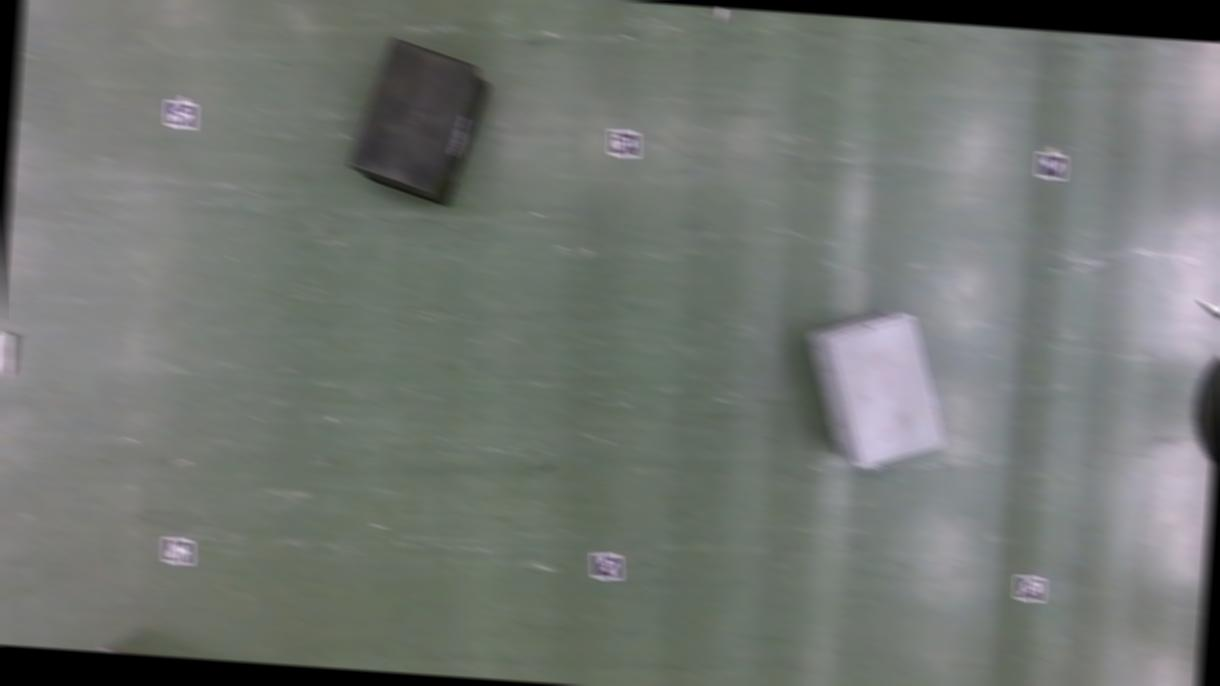probes: (0, 329, 17, 373), (1196, 297, 1220, 328), (716, 6, 731, 21)
rako: (798, 302, 953, 472), (344, 31, 493, 205)
